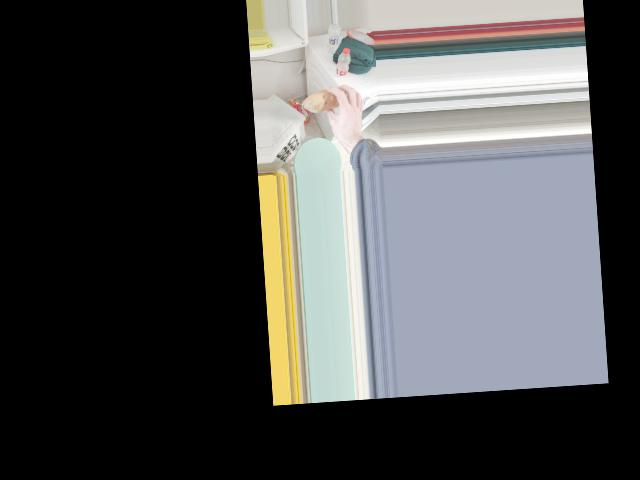sweet_potato: (310, 90, 344, 108)
